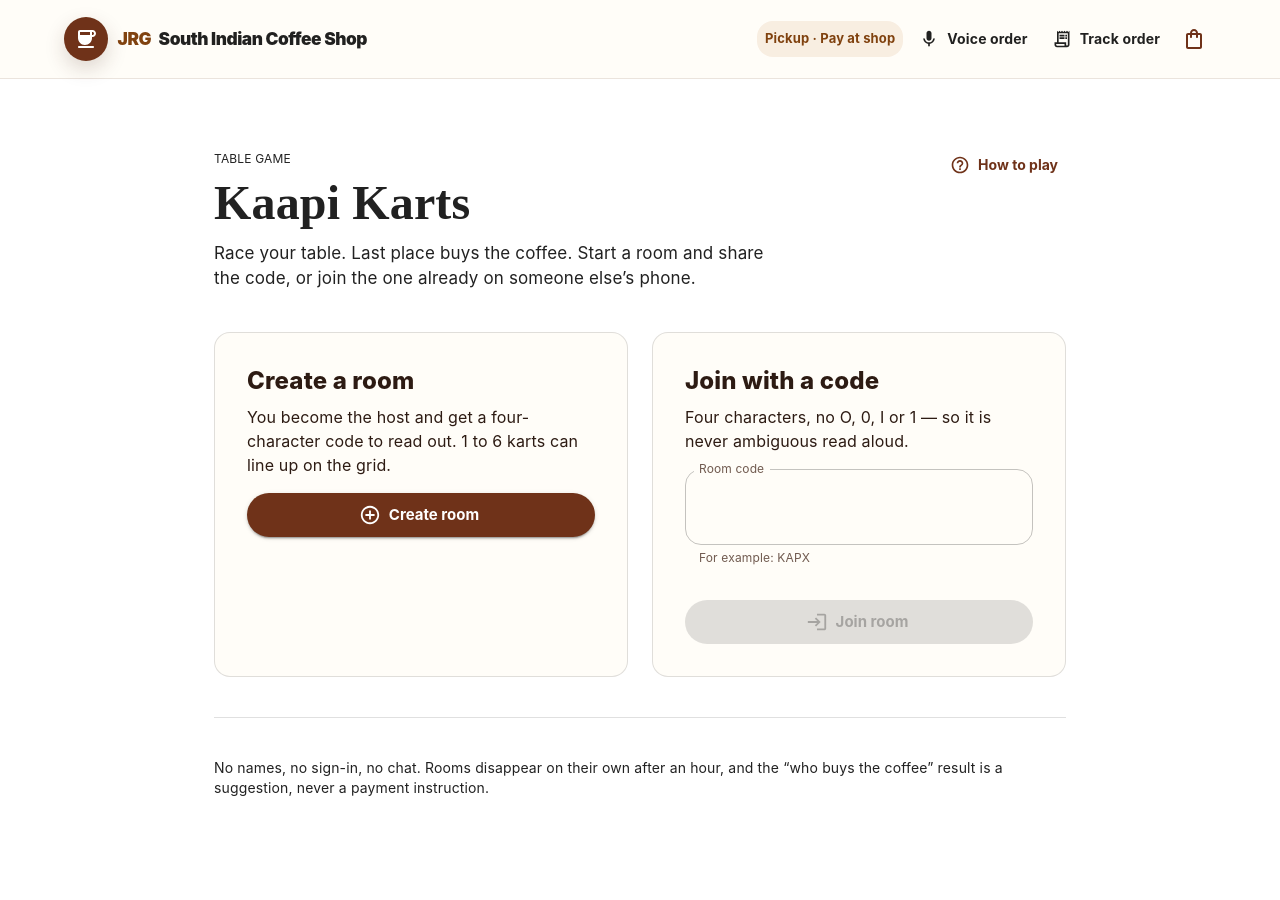
Test: Kaapi Karts UI › join errors › normalises a typed code to the unambiguous alphabet
Step 1. Type "k a 0 1 o i 7" into the field labelled "Room code" → (859, 507), box [685,469,1033,545]
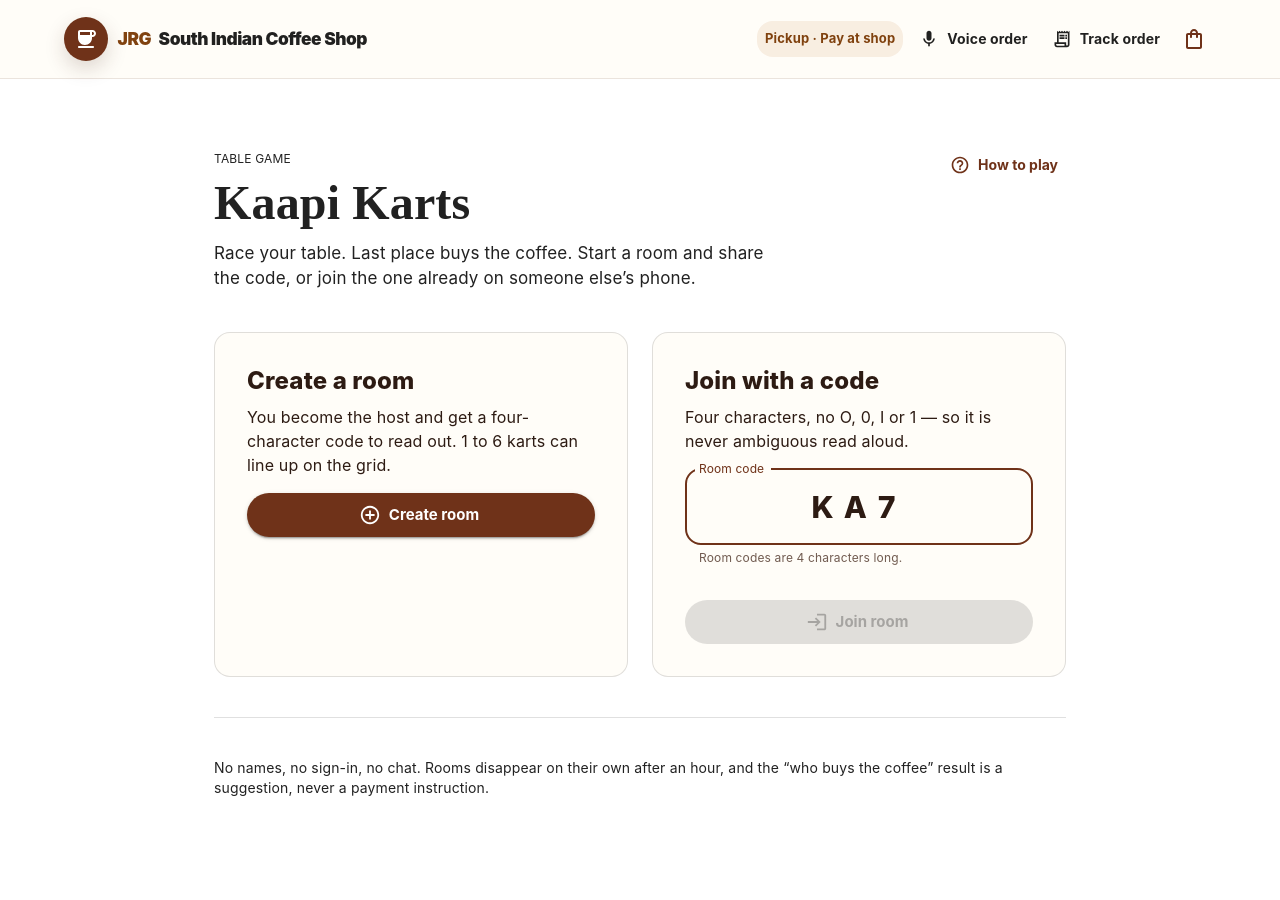
Check: the field labelled "Room code" holds "KA7", box [685,469,1033,545]
